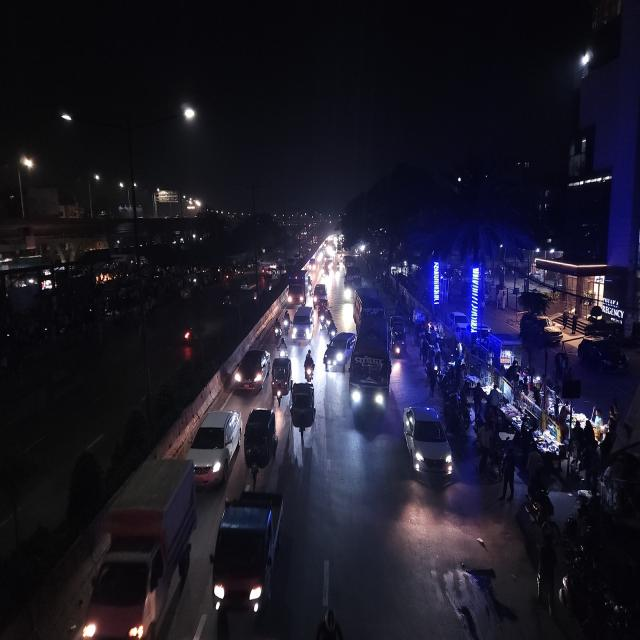bus: (348, 307, 390, 430), (352, 288, 384, 336), (388, 312, 408, 362), (342, 256, 362, 302)
car: (400, 403, 456, 491), (185, 406, 241, 491), (232, 343, 270, 395), (519, 311, 565, 348), (322, 329, 354, 376), (290, 304, 316, 343), (449, 308, 472, 336)
cng: (243, 404, 279, 475), (288, 378, 318, 442), (271, 354, 291, 406), (388, 311, 408, 361)
motorcycle: (179, 316, 199, 352), (304, 347, 316, 383), (277, 334, 289, 358), (273, 320, 284, 344), (318, 316, 328, 341), (282, 308, 292, 333), (326, 318, 336, 342)
pedestrian: (425, 362, 439, 398), (418, 336, 428, 366)
pickup_van: (212, 490, 288, 627)
truck: (81, 456, 197, 639), (286, 269, 308, 310)
